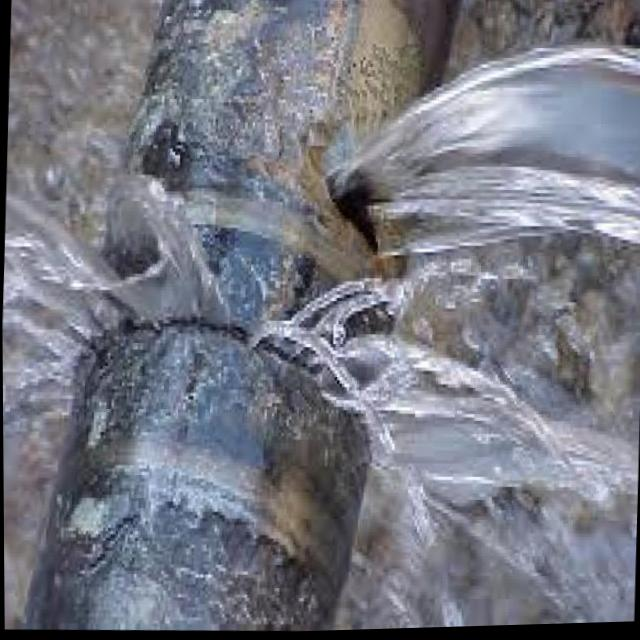leak: (2, 47, 640, 630)
